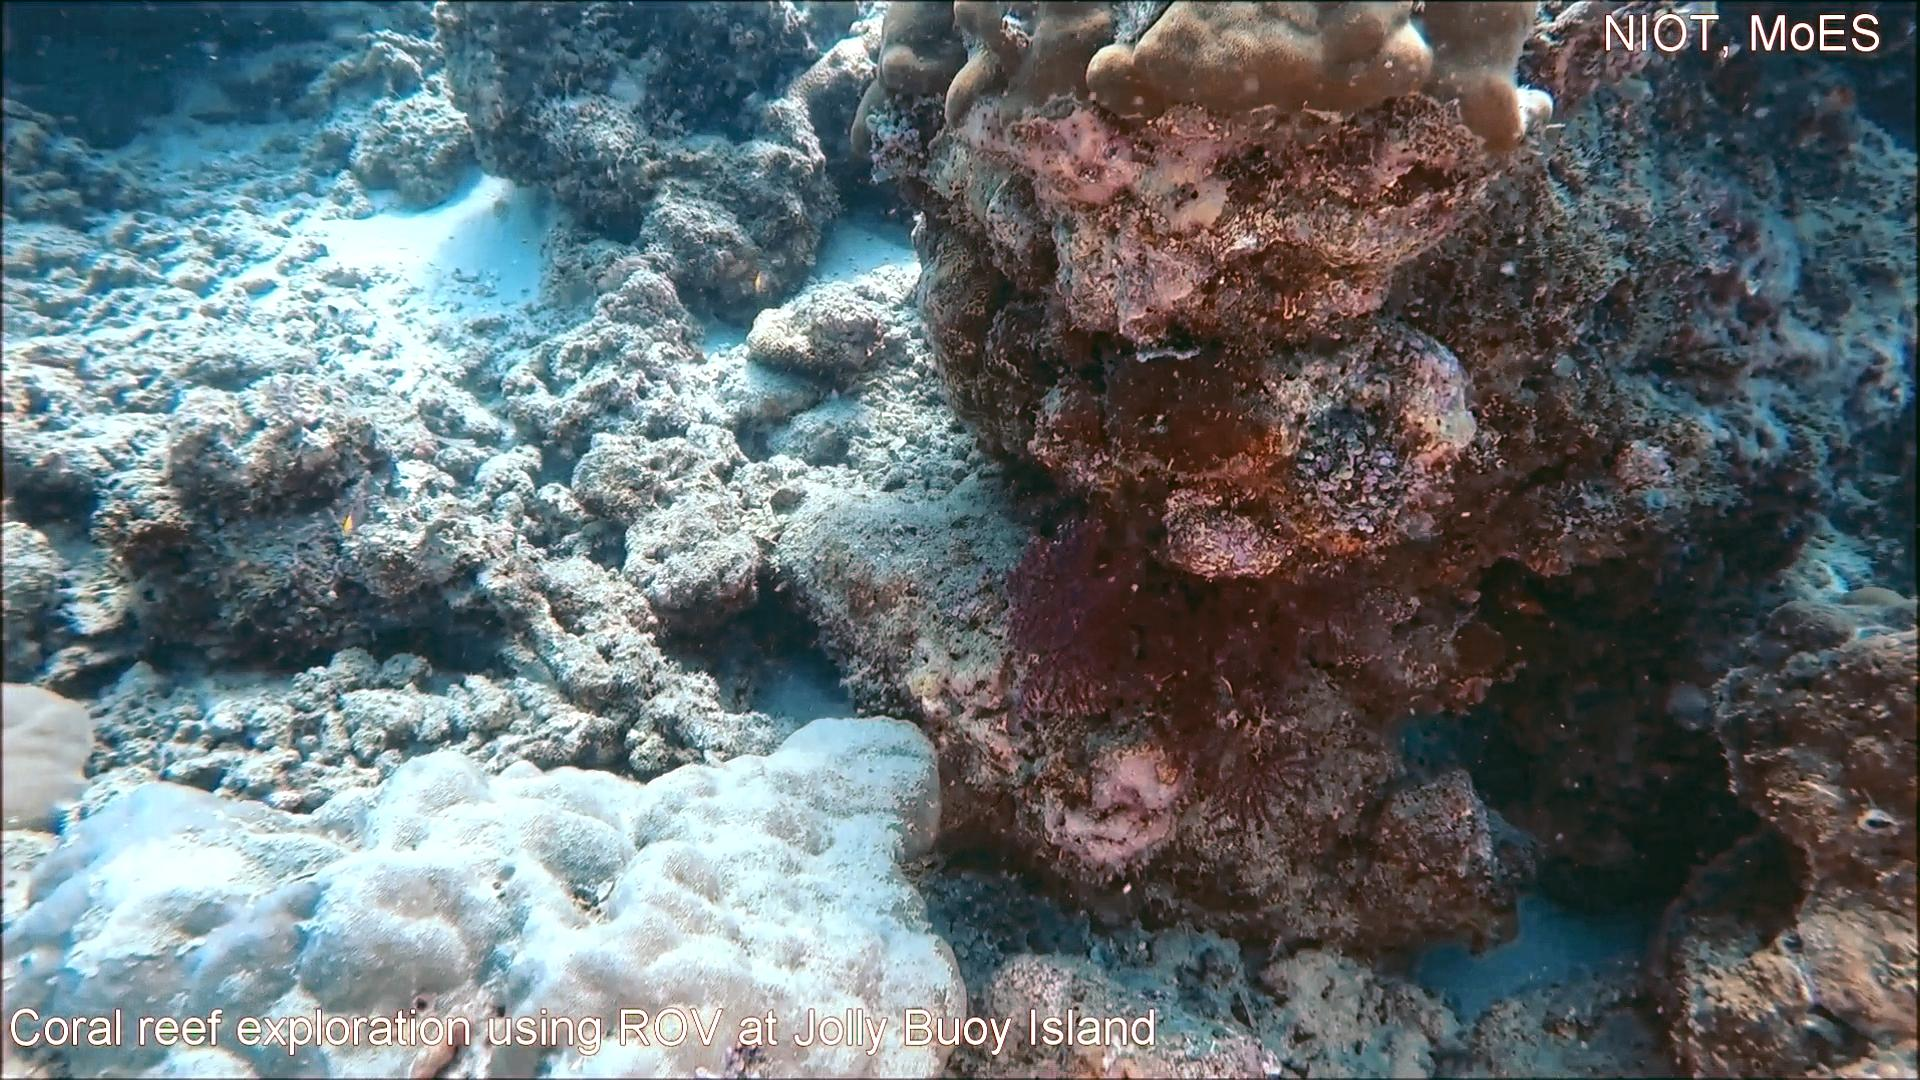Gorgonian-Purple Plexaura: (994, 505, 1378, 843)
Porites-Porites pukoensis: (287, 712, 976, 1080), (942, 0, 1543, 158)
